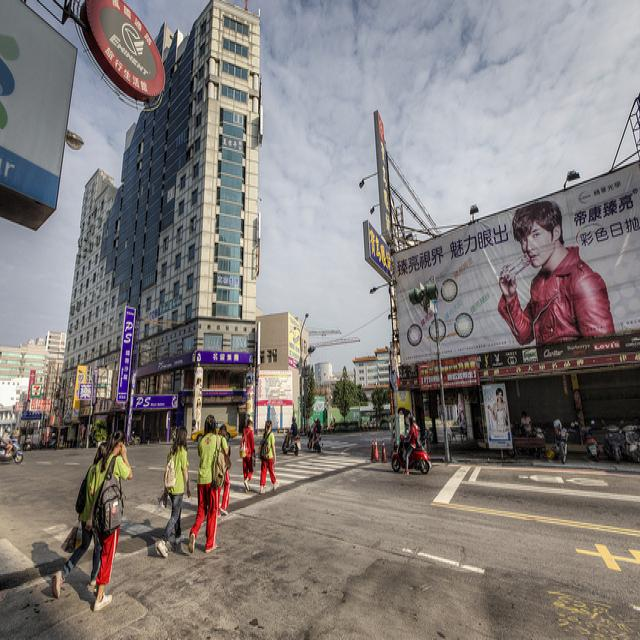motor: (281, 421, 627, 465), (391, 434, 432, 475), (555, 422, 574, 464), (309, 427, 322, 453)
